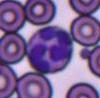N: (27, 26, 73, 74)
